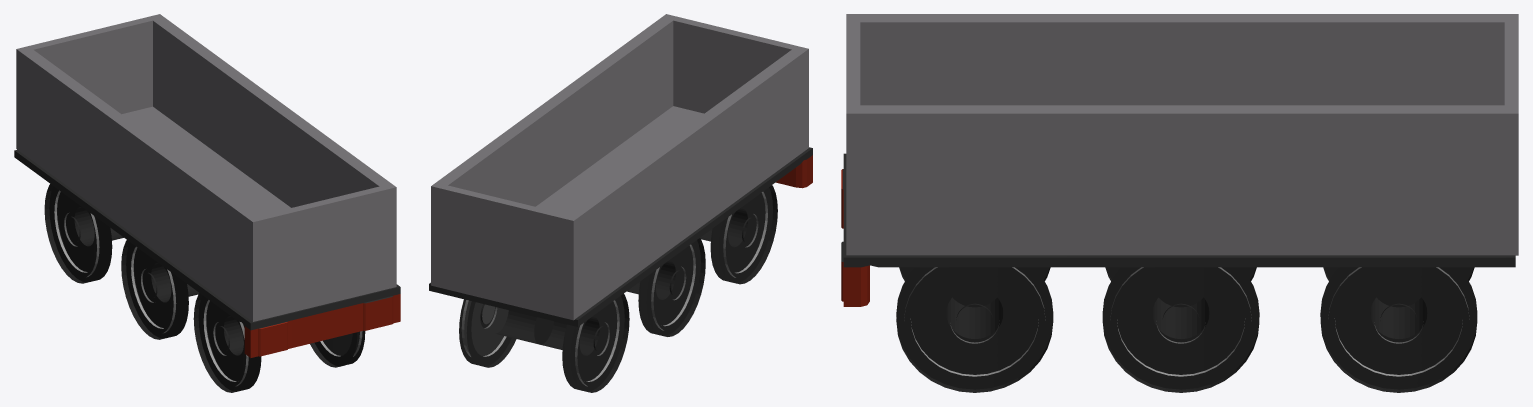
Rendered from train-container.glb.
The picture shows the model from 3 angles, left to right: view 1: azimuth 30°, elevation 25°; view 2: azimuth 150°, elevation 25°; view 3: azimuth 270°, elevation 25°; orthographic projection. The views are drawn at different scales.
Visible parts, largest first — view 1: Cube, Cylinder; view 2: Cube, Cylinder; view 3: Cube, Cylinder.
Boxes of the visible parts, box(x1,y1,x2,y2) form: Cube: box(16, 14, 396, 321); Cylinder: box(14, 149, 400, 392); Cube: box(431, 14, 808, 320); Cylinder: box(429, 147, 812, 392); Cube: box(846, 14, 1518, 255); Cylinder: box(841, 153, 1515, 392).
Bounding box in the file's own units: 3.13 × 4.07 × 8.64.
4 materials, 3 textured.
